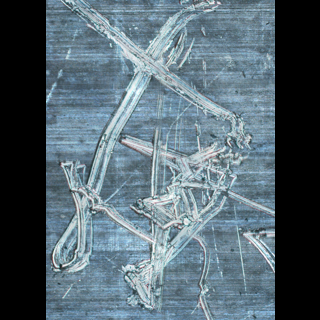d: (73, 0, 244, 149), (123, 115, 253, 243), (49, 150, 112, 281), (116, 239, 171, 315), (179, 231, 214, 319), (232, 216, 274, 280)
